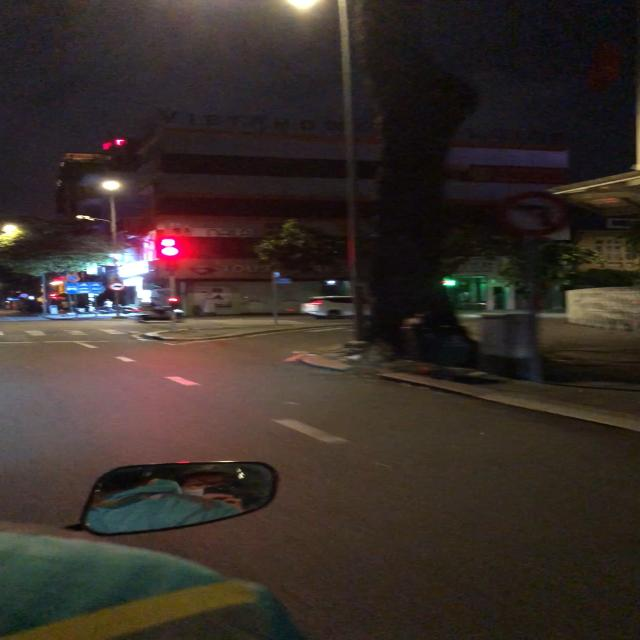Bien bao cam do xe: (65, 272, 82, 284)
Bien bao cam xe so-mi ro-mooc: (107, 281, 126, 292)
